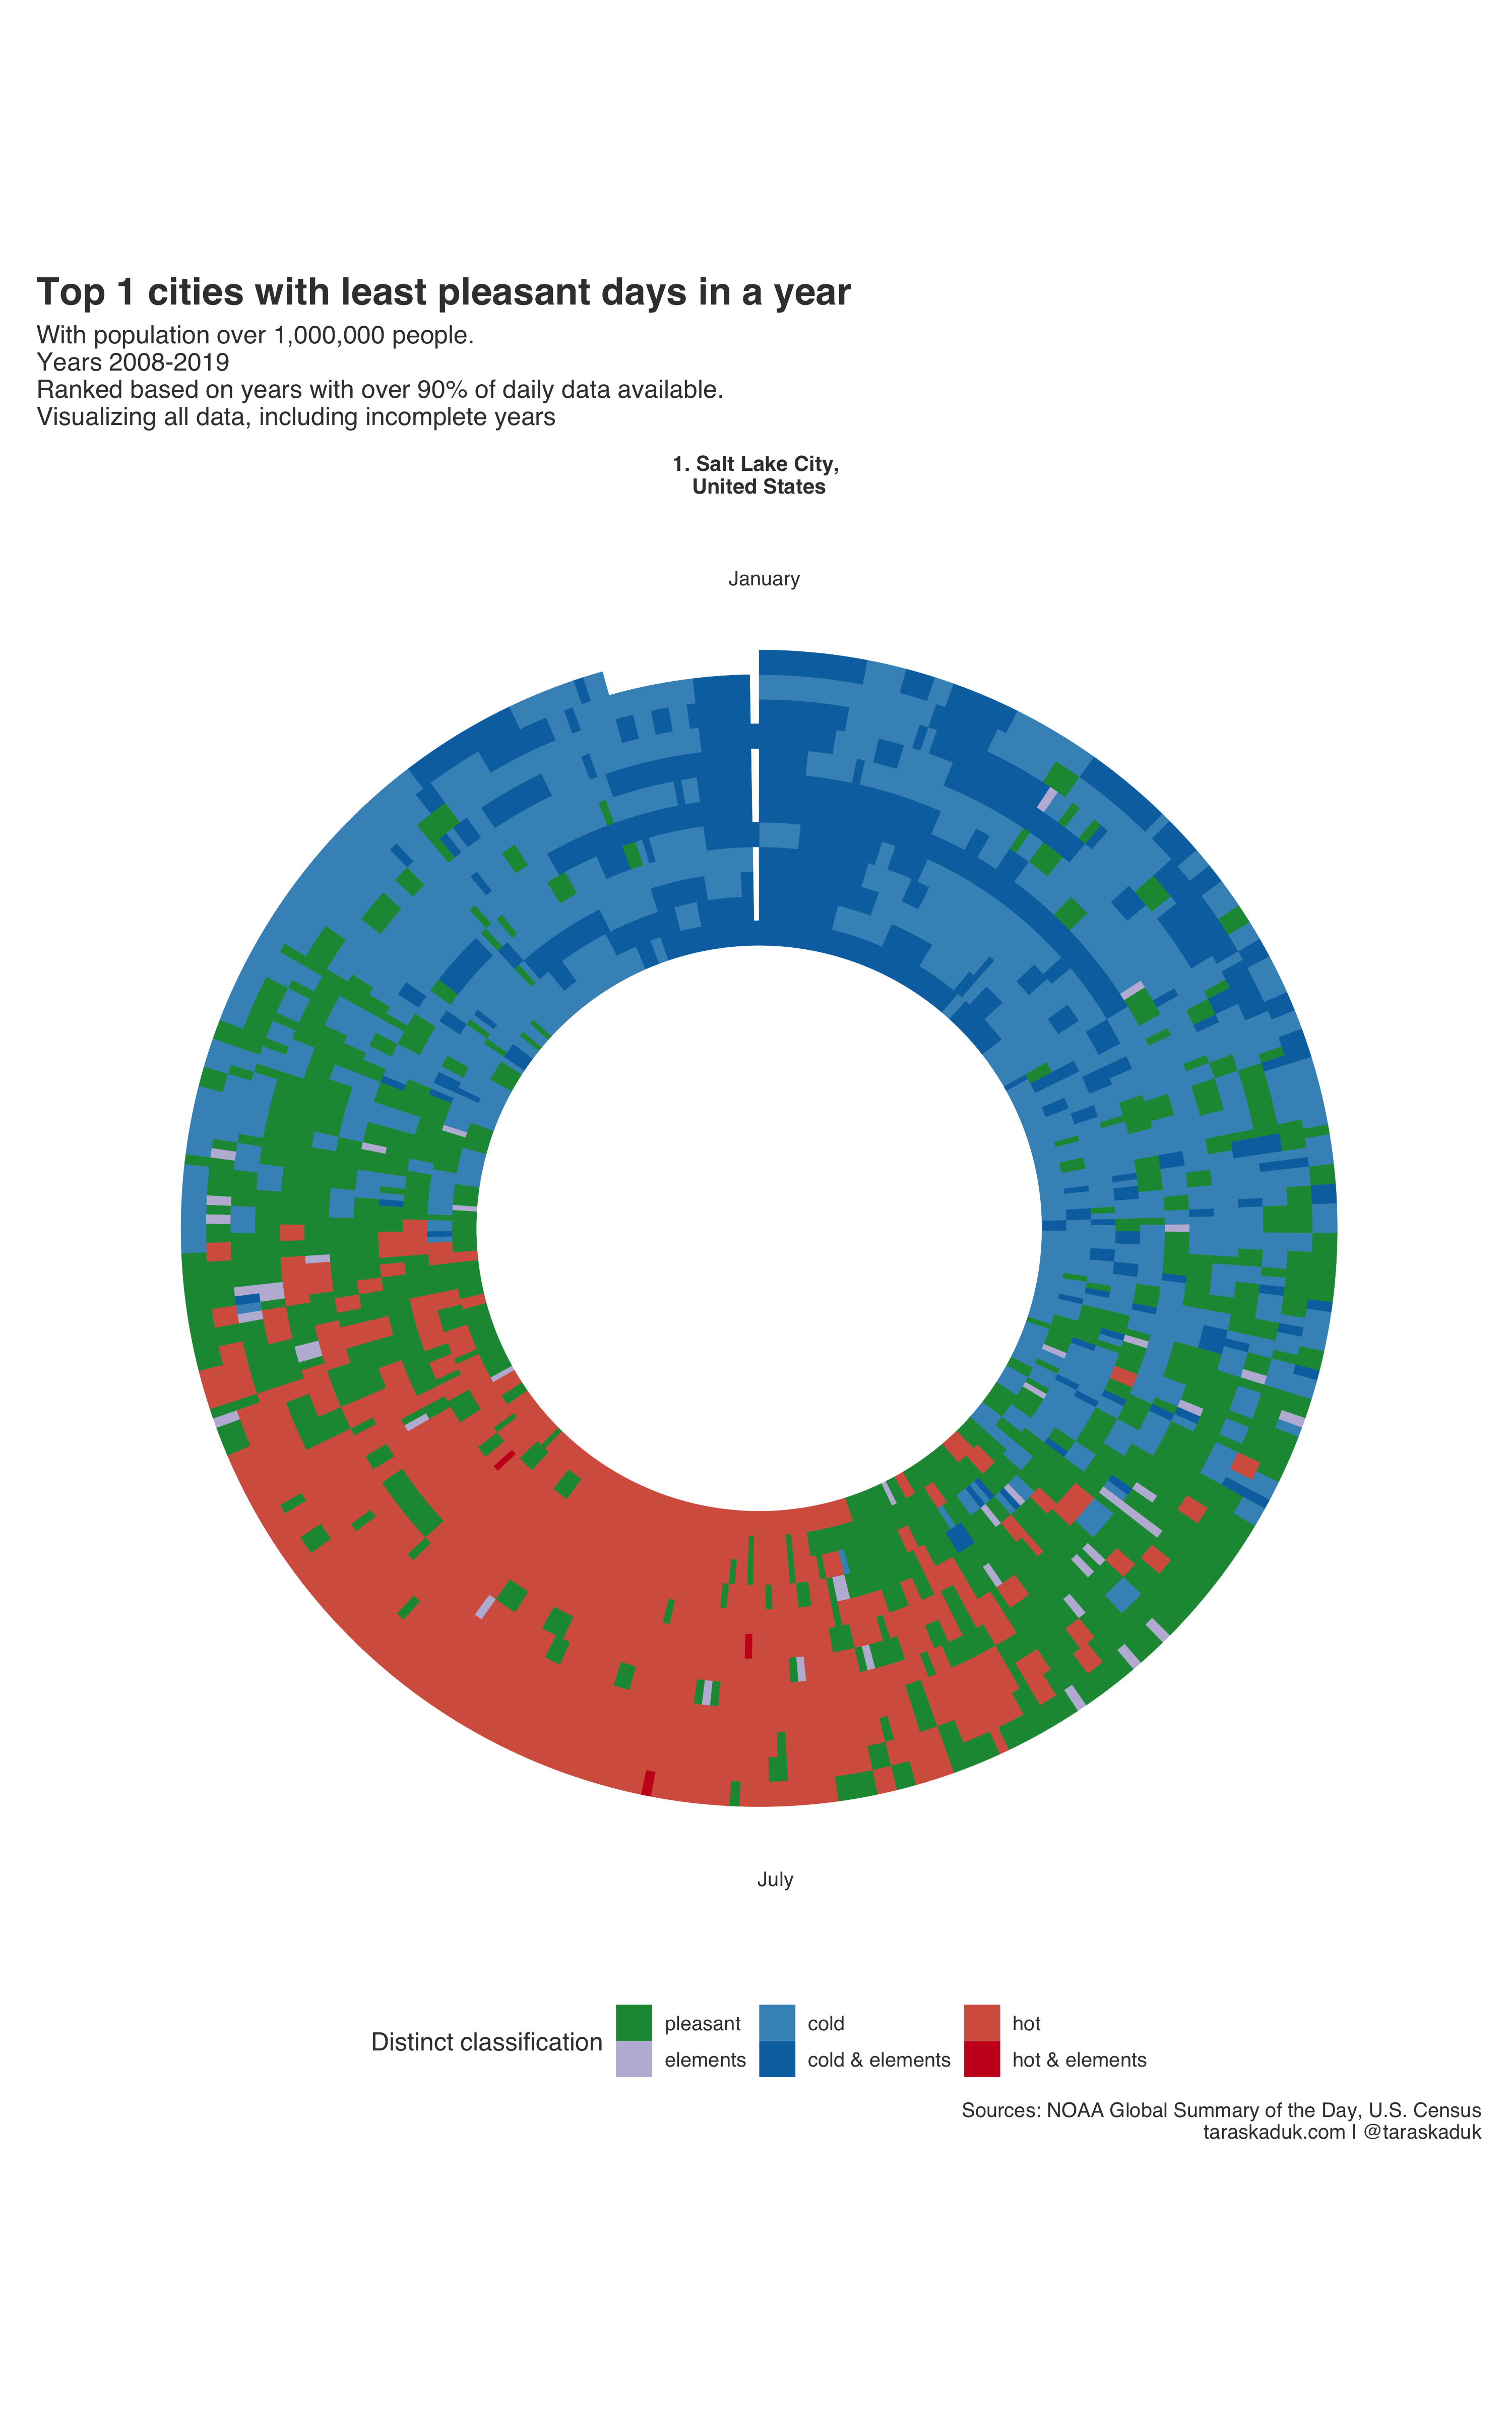

This screenshot's page, from the dashboard's own definition file:
{"tool":"tableau","page":{"name":"Radial Stack Bar Charts","canvas":[900,800],"ordinal":0},"visuals":[{"type":"worksheet","title":"radial stacked bar","mark":"Polygon","box":[0,0,796,800]},{"type":"legend","title":"radial stacked bar","param":"[federated.0d4brrl0id6ggj1ffol9q0xiccq4].[none:Calculation_4518799278402621453:n","box":[796,0,104,90]},{"type":"parameter","param":"[Parameters].[Parameter 4]","box":[796,90,104,52]},{"type":"parameter","param":"[Parameters].[Parameter 1]","box":[796,142,104,52]},{"type":"parameter","param":"[Parameters].[Parameter 2]","box":[796,194,104,52]},{"type":"parameter","param":"[Parameters].[Parameter 3]","box":[796,246,104,52]},{"type":"worksheet","title":"social","mark":"Shape","cols":["Platform"],"box":[840,770,60,30]}]}

Visuals, with their boxes on the page's 900x800 design canvas (x1, y1, x2, y2). These are canvas units, not pixel positions in the 1512x2420 screenshot, which may show the page scaled, cropped or inside an application window:
"radial stacked bar" worksheet (Polygon marks): [left=0, top=0, right=796, bottom=800]
"radial stacked bar" legend: [left=796, top=0, right=900, bottom=90]
parameter: [left=796, top=90, right=900, bottom=142]
parameter: [left=796, top=142, right=900, bottom=194]
parameter: [left=796, top=194, right=900, bottom=246]
parameter: [left=796, top=246, right=900, bottom=298]
"social" worksheet (Shape marks): [left=840, top=770, right=900, bottom=800]
